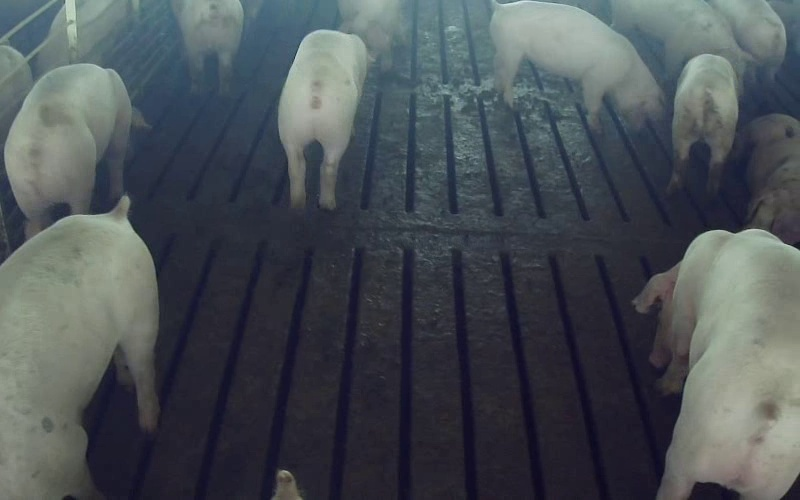pig: (0, 196, 158, 499), (633, 229, 799, 499), (490, 0, 662, 129), (4, 64, 131, 237), (278, 30, 367, 209), (612, 0, 748, 88), (667, 54, 737, 193), (742, 114, 799, 243), (709, 0, 785, 84)
